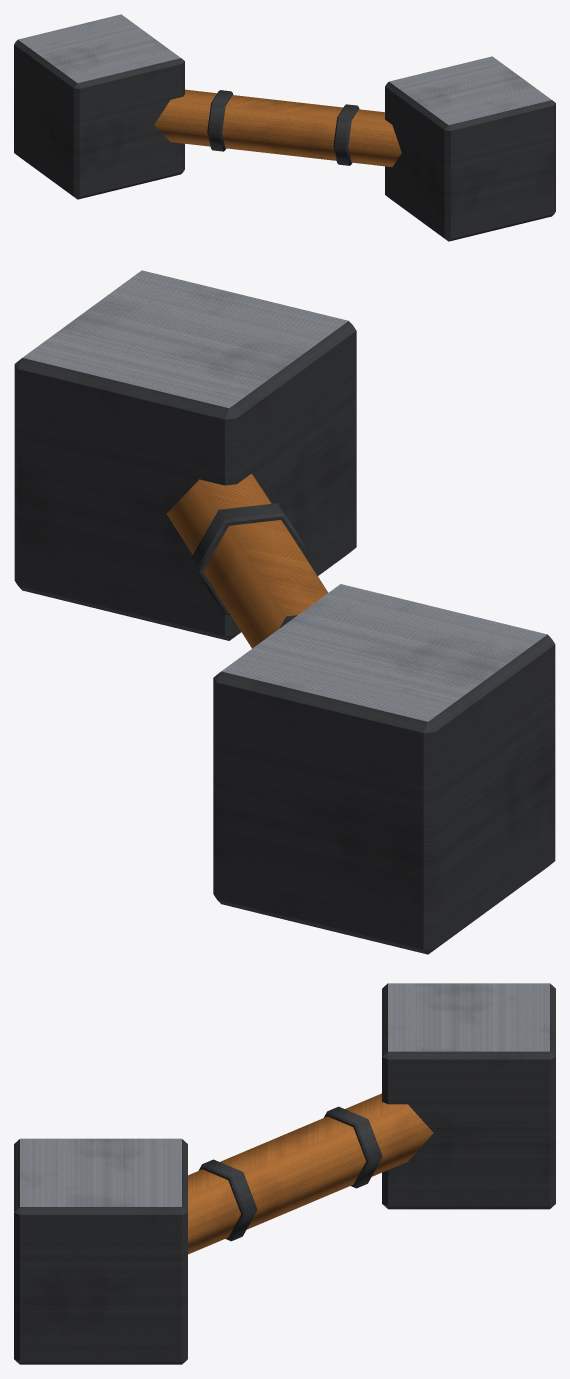
The model's file is R4C_STRUT_DIAG_2D_LOD1.glb.
3 views of the same model, one above another, from view 1: azimuth 30°, elevation 25°; view 2: azimuth 150°, elevation 25°; view 3: azimuth 270°, elevation 25° (orthographic). The views are drawn at different scales.
Visible parts, largest first — view 1: R4C_STRUT_DIAG_2D_LOD1; view 2: R4C_STRUT_DIAG_2D_LOD1; view 3: R4C_STRUT_DIAG_2D_LOD1.
Boxes of the visible parts, <box> form: R4C_STRUT_DIAG_2D_LOD1: <box>14,14,555,241</box>; R4C_STRUT_DIAG_2D_LOD1: <box>14,270,555,954</box>; R4C_STRUT_DIAG_2D_LOD1: <box>14,983,555,1364</box>.
Bounding box in the file's own units: 1.62 × 0.52 × 1.62.
Materials: 3 (3 with a texture image).
